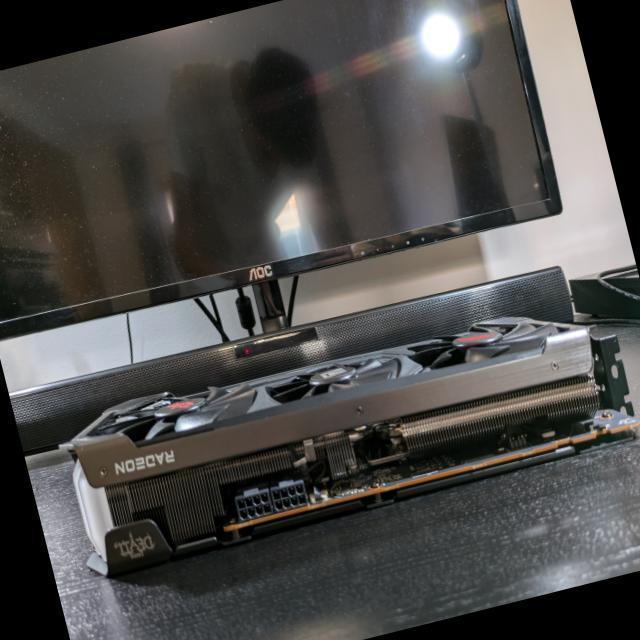GPU: (59, 307, 640, 578)
